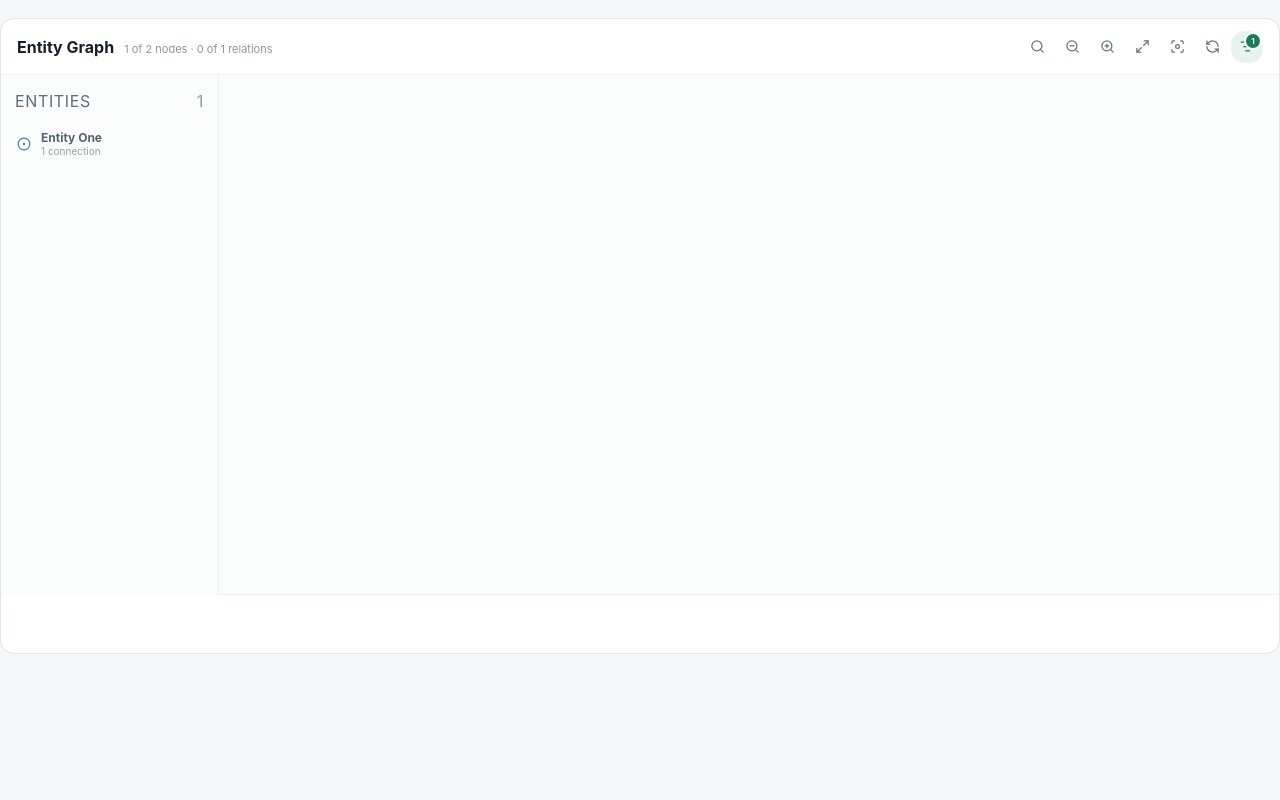
Test: GraphCanvas controls › filters entity nodes by the union of selected source properties
Check: the button "Entity One 1 connection" is shown, box [9,121,210,166]
Check: the text "1 of 2 nodes · 0 of 1 relations" is shown, box [124,42,273,56]
Click the button named "Filter graph display".
click(1247, 46)  # box [1231,30,1263,62]
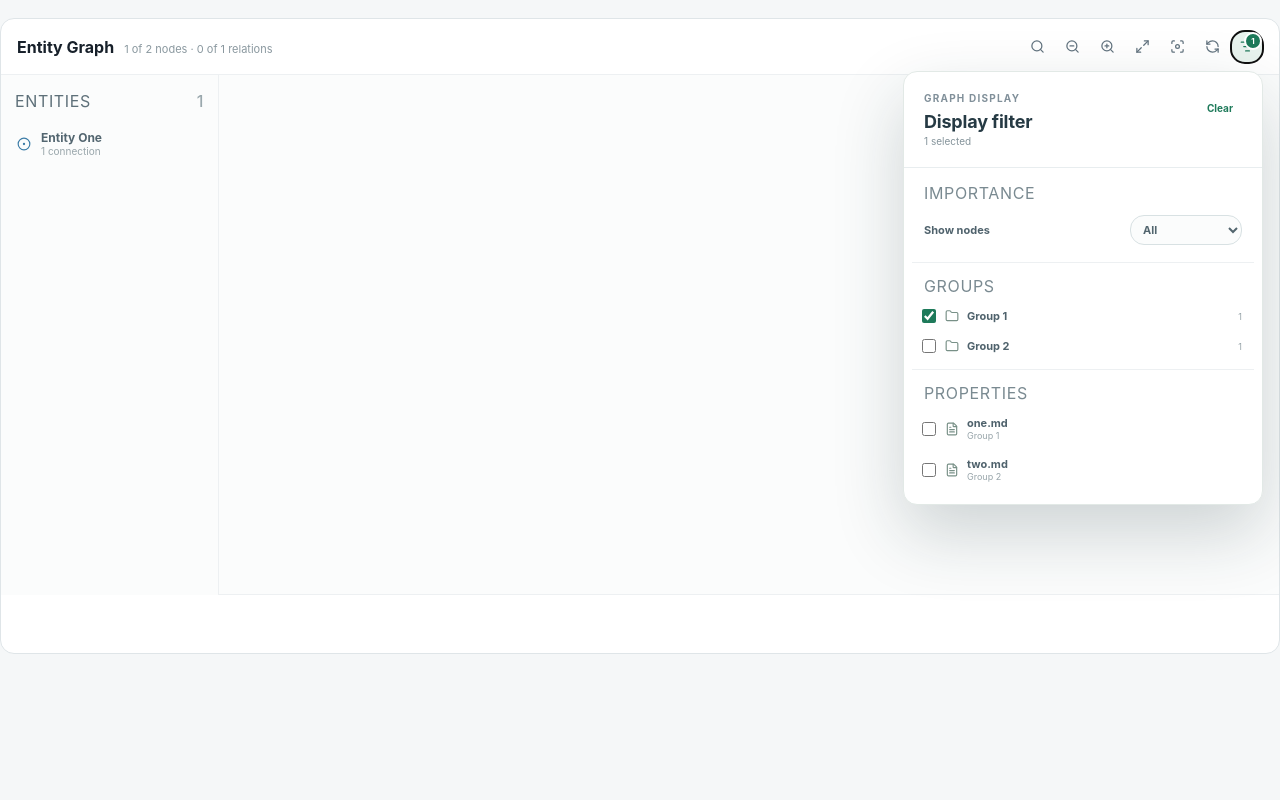
Check: the checkbox labelled "Group 1" is checked, box [922,308,936,322]
